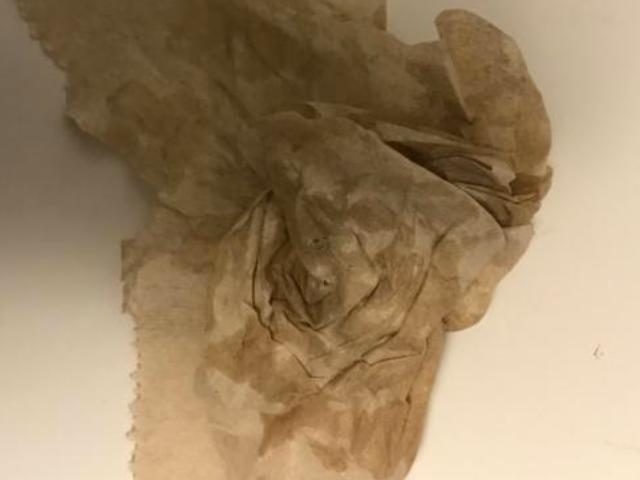cardboard paper: (21, 0, 552, 480)
